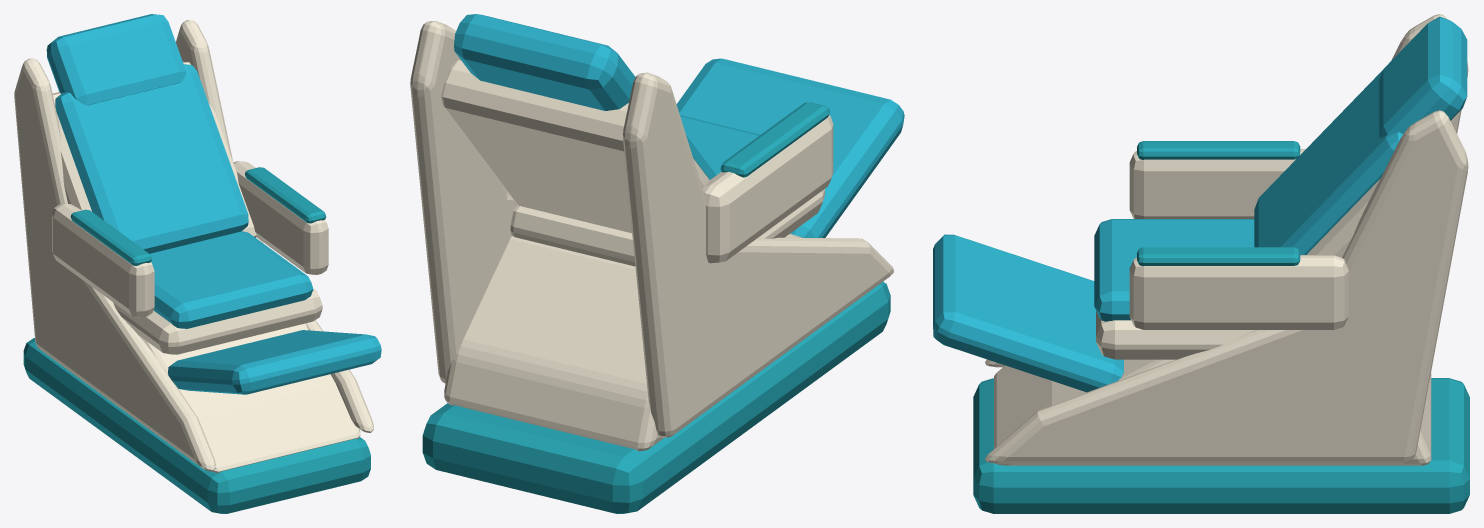
Rendered from examination_couch_advanced.glb.
3 views of the same model, side by side, from view 1: azimuth 30°, elevation 25°; view 2: azimuth 150°, elevation 25°; view 3: azimuth 270°, elevation 25° (orthographic). The views are drawn at different scales.
Parts seen in each view (by area): view 1: STATIC_cream.017, MOVING_backrest.002, STATIC_blue.011, STATIC_teal.020, MOVING_legrest.001; view 2: STATIC_cream.017, STATIC_teal.020, MOVING_legrest.001, STATIC_blue.011; view 3: STATIC_cream.017, STATIC_teal.020, MOVING_legrest.001, STATIC_blue.011, MOVING_backrest.002.
Boxes of the visible parts, x1,y1,x2,y2 form: STATIC_cream.017: [14, 20, 373, 472]; MOVING_backrest.002: [55, 64, 248, 253]; STATIC_blue.011: [46, 14, 313, 328]; STATIC_teal.020: [23, 167, 370, 513]; MOVING_legrest.001: [168, 330, 381, 394]; STATIC_cream.017: [410, 21, 893, 451]; STATIC_teal.020: [422, 102, 890, 513]; MOVING_legrest.001: [676, 58, 904, 237]; STATIC_blue.011: [454, 14, 760, 175]; STATIC_cream.017: [985, 14, 1468, 465]; STATIC_teal.020: [973, 141, 1469, 513]; MOVING_legrest.001: [933, 234, 1123, 392]; STATIC_blue.011: [1094, 16, 1467, 321]; MOVING_backrest.002: [1254, 70, 1403, 254].
Size of the model in its own units: 0.98 by 1.61 by 1.84.
